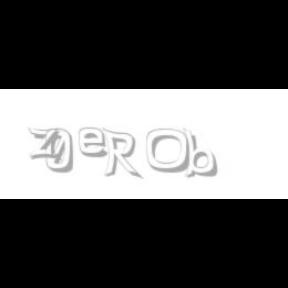0: (46, 128, 76, 174)
O: (146, 128, 190, 174)
R: (102, 128, 140, 180)
b: (183, 128, 221, 178)
e: (78, 128, 112, 158)
z: (27, 128, 63, 160)
